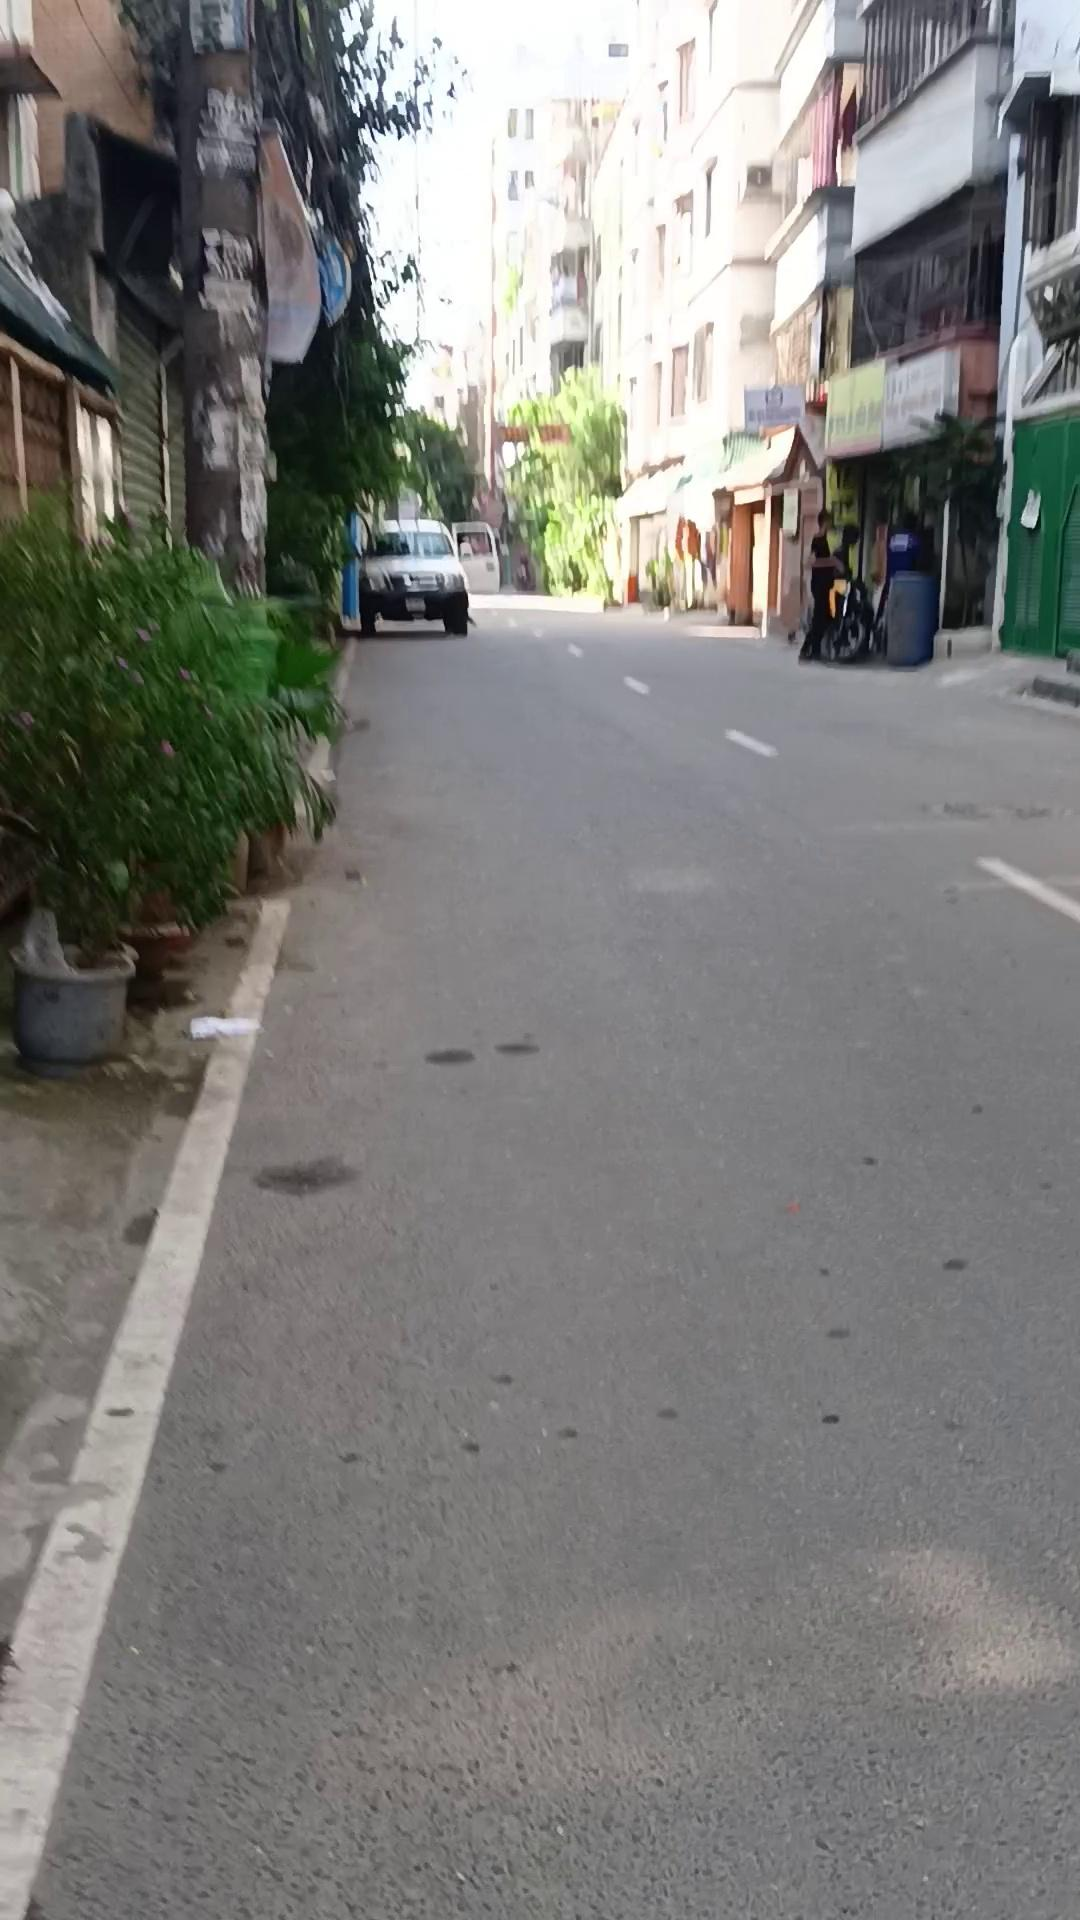Bollard: (353, 516, 473, 637)
Cat: (882, 568, 938, 666)
Curb: (796, 506, 844, 661)
Fallen-tree: (0, 506, 344, 1095), (642, 549, 674, 618)
Light-pole: (500, 360, 628, 611)
